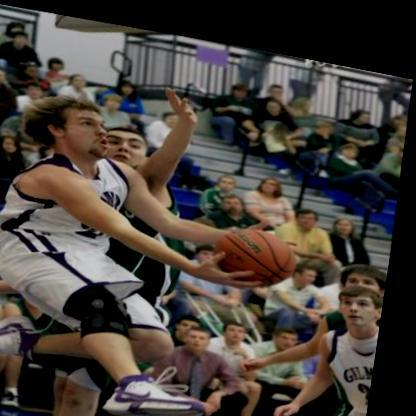basketball: (211, 209, 304, 277)
